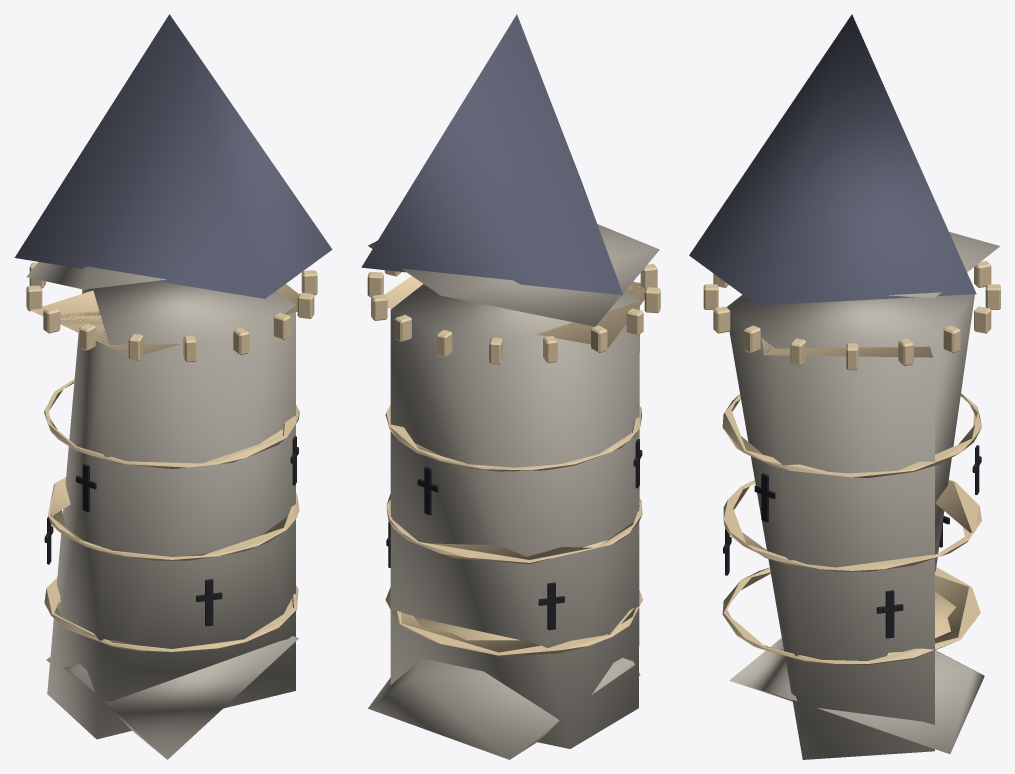
The model's file is castle_tower.glb.
3 renders of one model, left to right at view 1: azimuth 30°, elevation 25°; view 2: azimuth 150°, elevation 25°; view 3: azimuth 270°, elevation 25°, orthographic.
Visible parts, largest first — view 1: castle_tower; view 2: castle_tower; view 3: castle_tower.
Boxes of the visible parts, box(x1,y1,x2,y2) form: castle_tower: box(14, 14, 332, 759); castle_tower: box(361, 14, 660, 759); castle_tower: box(689, 14, 1000, 759).
Size of the model in its own units: 10.05 by 25.36 by 10.28.
Materials: 1 (1 with a texture image).
